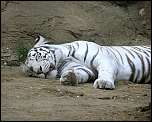Tigre: (22, 29, 145, 86)
